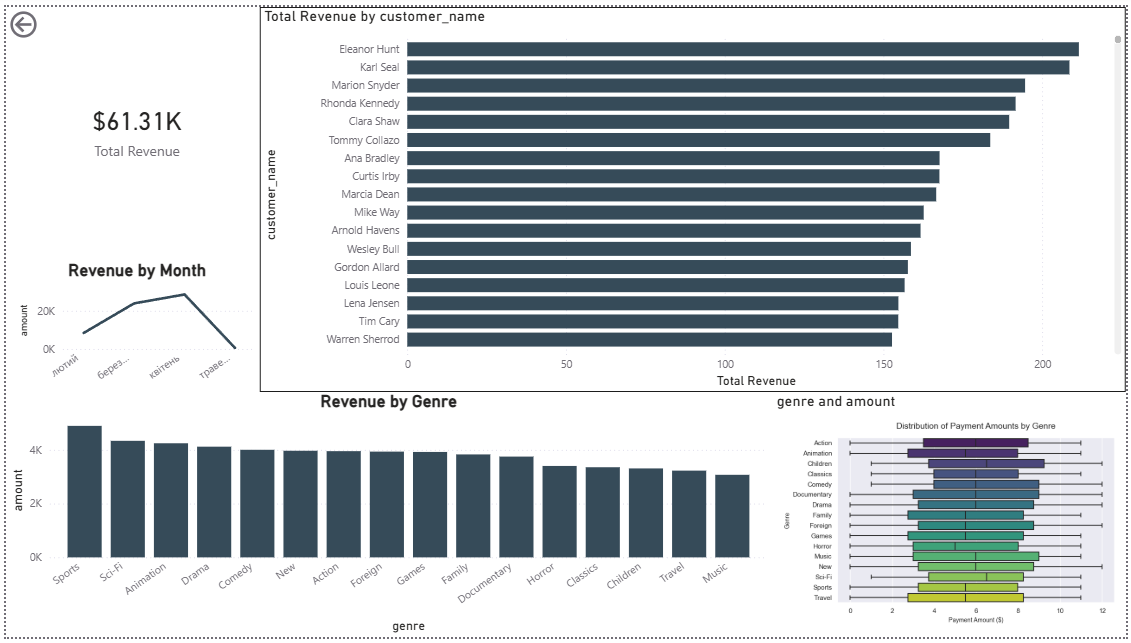

This screenshot's page, from the dashboard's own definition file:
{"tool":"powerbi","page":{"name":"Сторінка 1","canvas":[1280,720],"ordinal":0},"visuals":[{"type":"card","fields":{"Values":["Sum(public sales_analytics.amount)"]},"box":[10,0,280,280],"z":0},{"type":"clusteredColumnChart","title":"Revenue by Genre","fields":{"Category":["public sales_analytics.genre"],"Y":["Sum(public sales_analytics.amount)"]},"box":[0,440,875,280],"z":1000},{"type":"lineChart","title":"Revenue by Month","fields":{"Category":["public sales_analytics.payment_date.Варіація.Ієрархія дат.Місяць"],"Y":["Sum(public sales_analytics.amount)"]},"box":[10,290,280,150],"z":2000},{"type":"clusteredBarChart","fields":{"Category":["public sales_analytics.customer_name"],"Y":["public sales_analytics.Total Revenue"]},"box":[290,0,990,440],"z":3000},{"type":"actionButton","box":[0,0,100,40],"z":4000},{"type":"pythonVisual","fields":{"Values":["public sales_analytics.genre","public sales_analytics.amount"]},"box":[875,440,405,280],"z":4001}]}

Visuals, with their boxes in screenshot pixels (x1, y1, x2, y2), scaled from the page's 1280x720 canvas onto the 1131x643 screenshot:
card - Sum(public sales_analytics.amount): (left=9, top=0, right=256, bottom=250)
"Revenue by Genre" clusteredColumnChart: (left=0, top=393, right=773, bottom=642)
"Revenue by Month" lineChart: (left=9, top=259, right=256, bottom=393)
clusteredBarChart - public sales_analytics.customer_name x public sales_analytics.Total Revenue: (left=256, top=0, right=1130, bottom=393)
actionButton: (left=0, top=0, right=88, bottom=36)
pythonVisual - public sales_analytics.genre x public sales_analytics.amount: (left=773, top=393, right=1130, bottom=642)
